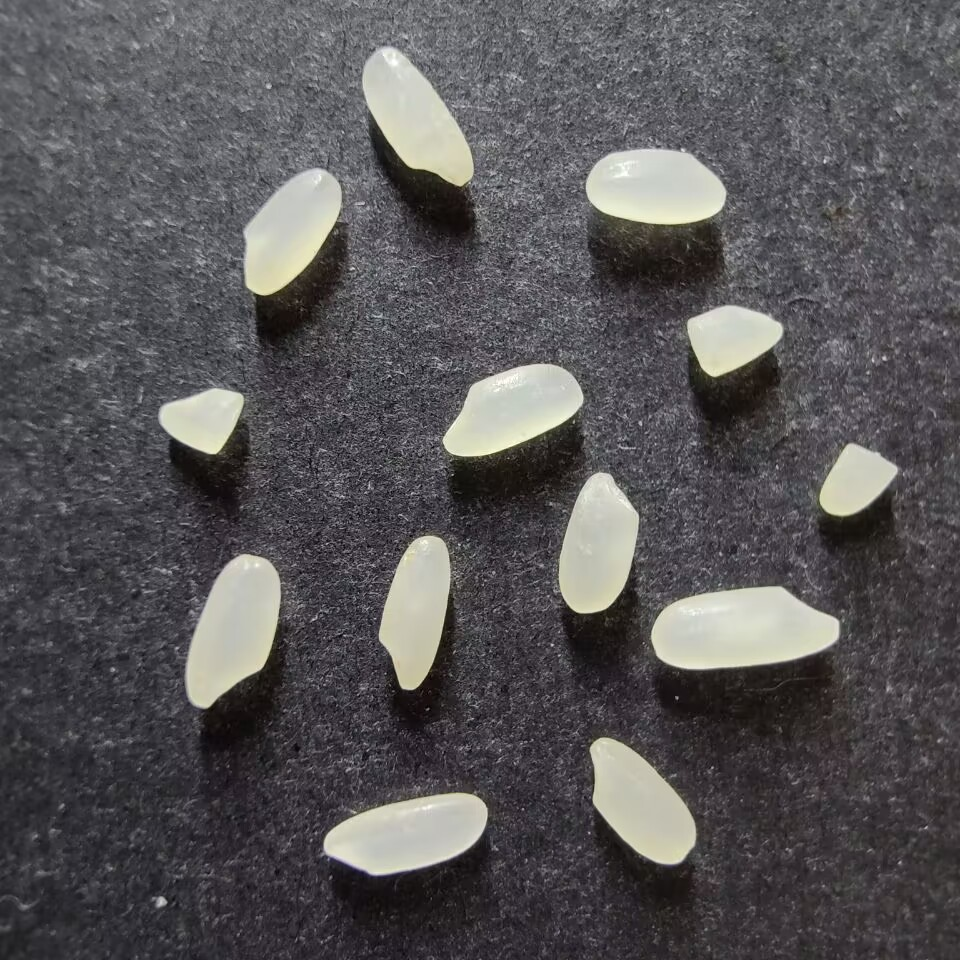broken: (686, 304, 784, 376), (818, 443, 897, 516), (158, 388, 244, 454)
rice: (650, 585, 840, 670), (361, 46, 475, 186), (185, 553, 281, 709), (588, 736, 697, 865), (323, 791, 487, 875), (442, 363, 583, 457), (242, 167, 341, 296), (557, 470, 639, 613), (377, 535, 450, 690), (584, 148, 727, 224)
